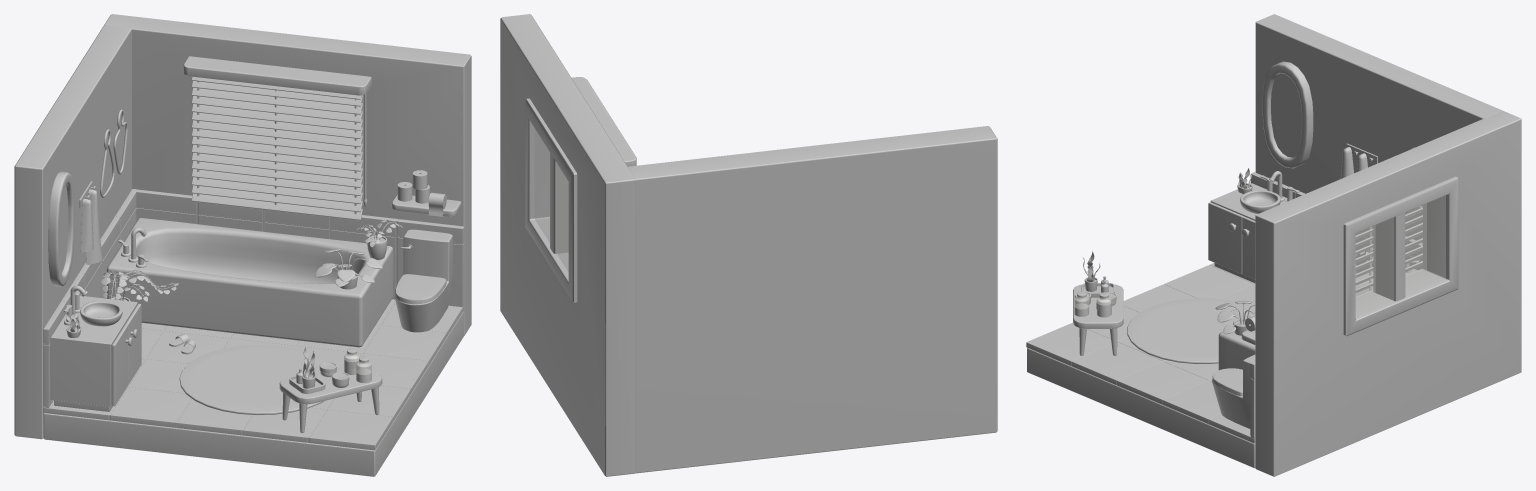
File: Bathroom_38.fbx
3 renders of one model, left to right at view 1: azimuth 30°, elevation 25°; view 2: azimuth 150°, elevation 25°; view 3: azimuth 270°, elevation 25°, orthographic. The views are drawn at different scales.
Visible parts, largest first — view 1: Room_38_Wall_2, Room_38_Bath_1, Room_38_Blinds_1, Room_38_Wall_1, Room_38_Tile_1, Room_38_Floor_1, Room_38_Tile_3, Room_38_Cabinet_1, Room_38_Carpet_1, Room_38_Toilet_1, Room_38_Tile_2, Room_38_Mirror_1 (+10 smaller); view 2: Room_38_Wall_1, Room_38_Wall_2, Room_38_Window_1, Room_38_Blinds_1; view 3: Room_38_Wall_2, Room_38_Wall_1, Room_38_Window_1, Room_38_Tile_1, Room_38_Floor_1, Room_38_Carpet_1, Room_38_Mirror_1, Room_38_Cabinet_1, Room_38_Toilet_1, Room_38_Table_1, Room_38_Blinds_1, Room_38_Bath_1 (+3 smaller).
Part boxes in pixels (box(x1,y1,x2,y2)): Room_38_Wall_2: box(104, 14, 471, 335); Room_38_Bath_1: box(106, 218, 393, 347); Room_38_Blinds_1: box(183, 56, 371, 220); Room_38_Wall_1: box(14, 25, 131, 439); Room_38_Tile_1: box(43, 299, 464, 450); Room_38_Floor_1: box(43, 311, 463, 476); Room_38_Tile_3: box(131, 189, 464, 307); Room_38_Cabinet_1: box(50, 295, 141, 411); Room_38_Carpet_1: box(179, 345, 328, 415); Room_38_Toilet_1: box(395, 229, 452, 332); Room_38_Tile_2: box(43, 189, 136, 407); Room_38_Mirror_1: box(48, 171, 74, 286); Room_38_Wall_1: box(627, 126, 997, 473); Room_38_Wall_2: box(500, 14, 635, 476); Room_38_Window_1: box(525, 98, 577, 302); Room_38_Blinds_1: box(571, 77, 636, 166); Room_38_Wall_2: box(1255, 110, 1521, 476); Room_38_Wall_1: box(1255, 14, 1502, 242); Room_38_Window_1: box(1343, 176, 1458, 336); Room_38_Tile_1: box(1026, 263, 1255, 443); Room_38_Floor_1: box(1027, 348, 1255, 468); Room_38_Carpet_1: box(1127, 298, 1255, 363); Room_38_Mirror_1: box(1262, 61, 1313, 168); Room_38_Cabinet_1: box(1208, 183, 1287, 282); Room_38_Toilet_1: box(1212, 354, 1255, 428); Room_38_Table_1: box(1073, 284, 1123, 355); Room_38_Blinds_1: box(1355, 205, 1422, 297); Room_38_Bath_1: box(1218, 269, 1417, 370).
Size of the model in its own units: 705 by 400 by 705.
